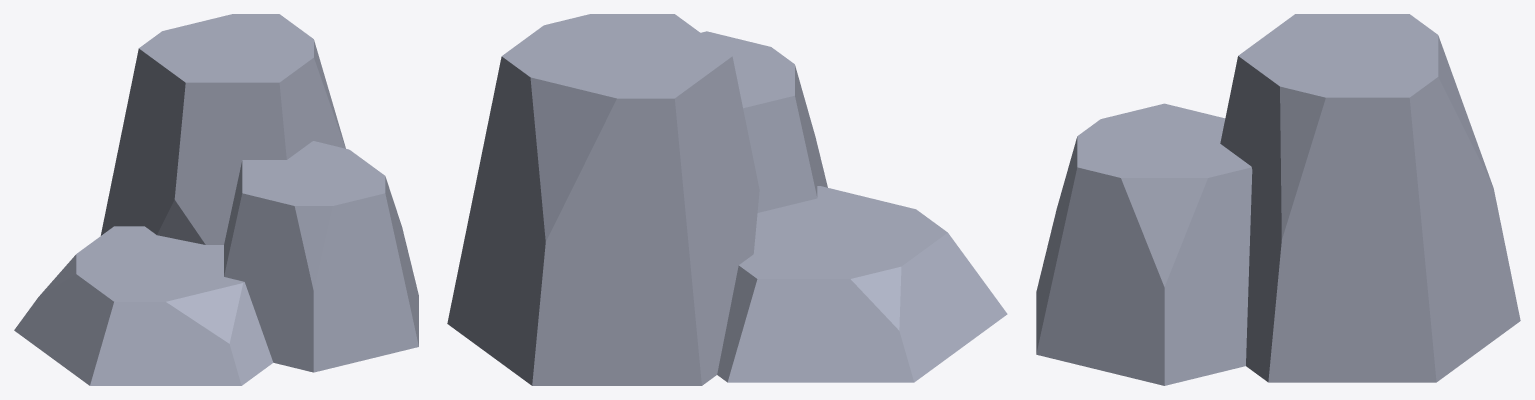
File: rocks.obj
The picture shows the model from 3 angles, left to right: view 1: azimuth 30°, elevation 25°; view 2: azimuth 150°, elevation 25°; view 3: azimuth 270°, elevation 25°; orthographic projection. The views are drawn at different scales.
Parts seen in each view (by area): view 1: rocks; view 2: rocks; view 3: rocks.
Boxes of the visible parts, x1,y1,x2,y2 form: rocks: [14, 14, 418, 385]; rocks: [447, 14, 1007, 385]; rocks: [1036, 14, 1520, 385].
Bounding box in the file's own units: 0.6531 × 0.4 × 0.6623.
